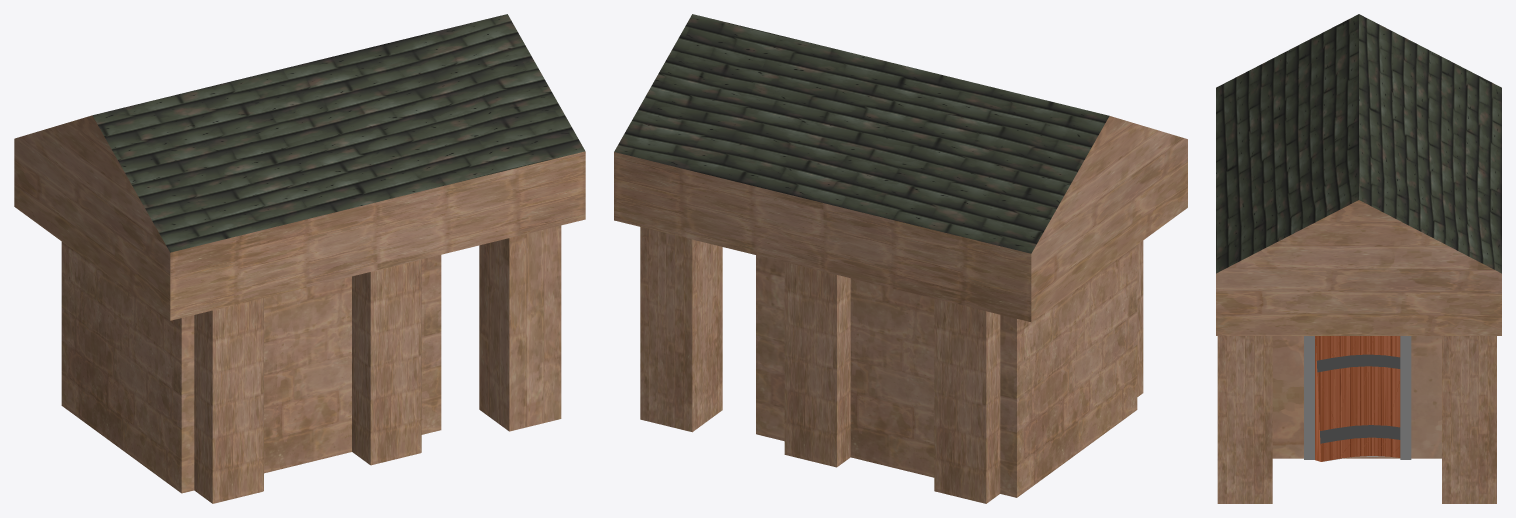
The model's file is temple1.glb.
The picture shows the model from 3 angles, left to right: view 1: azimuth 30°, elevation 25°; view 2: azimuth 150°, elevation 25°; view 3: azimuth 270°, elevation 25°; orthographic projection. The views are drawn at different scales.
Parts seen in each view (by area): view 1: temple; view 2: temple; view 3: temple.
Part boxes in pixels (x1,y1,x2,y2): temple: (14,14,585,503); temple: (614,14,1187,503); temple: (1216,14,1501,503).
Size of the model in its own units: 4 by 3.18 by 2.6.
Materials: 5 (3 with a texture image).
